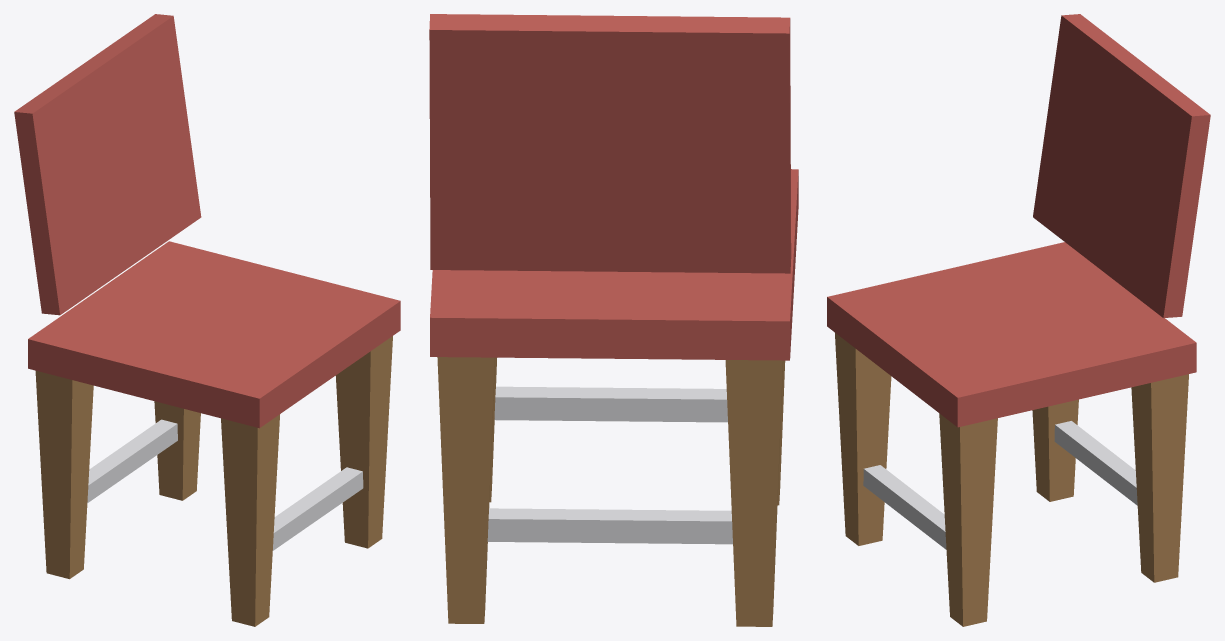
Rendered from chair.glb.
3 views of the same model, side by side, from view 1: azimuth 30°, elevation 25°; view 2: azimuth 150°, elevation 25°; view 3: azimuth 270°, elevation 25° (orthographic). The views are drawn at different scales.
Parts seen in each view (by area): view 1: Seat, Back, LegFR, LegBR, LegFL, Rails, LegBL; view 2: Back, Seat, Rails, LegBR, LegBL; view 3: Seat, Back, LegFL, LegBL, LegFR, Rails, LegBR.
Boxes of the visible parts, bbox=[...] form: Seat: bbox=[28, 241, 400, 428]; Back: bbox=[14, 14, 201, 315]; LegFR: bbox=[221, 414, 279, 626]; LegBR: bbox=[35, 371, 93, 579]; LegFL: bbox=[335, 336, 392, 548]; Rails: bbox=[87, 419, 363, 550]; LegBL: bbox=[154, 401, 200, 500]; Back: bbox=[429, 14, 791, 273]; Seat: bbox=[430, 169, 798, 360]; Rails: bbox=[487, 386, 732, 544]; LegBR: bbox=[725, 360, 783, 626]; LegBL: bbox=[437, 357, 495, 623]; Seat: bbox=[827, 242, 1196, 427]; Back: bbox=[1033, 14, 1210, 318]; LegFL: bbox=[939, 413, 997, 626]; LegBL: bbox=[1131, 374, 1188, 582]; LegFR: bbox=[835, 333, 891, 545]; Rails: bbox=[863, 421, 1137, 549]; LegBR: bbox=[1032, 399, 1078, 501].
Size of what is drawn, in the model's own units: 0.6927 by 0.9407 by 0.7045.
